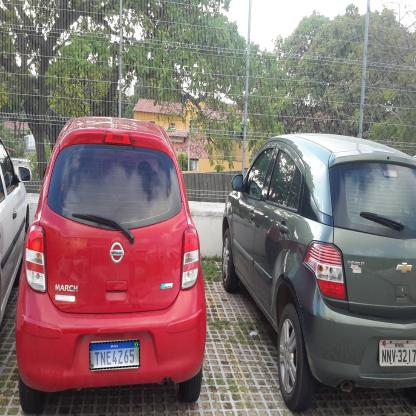PlacaM: (89, 340, 140, 370)
